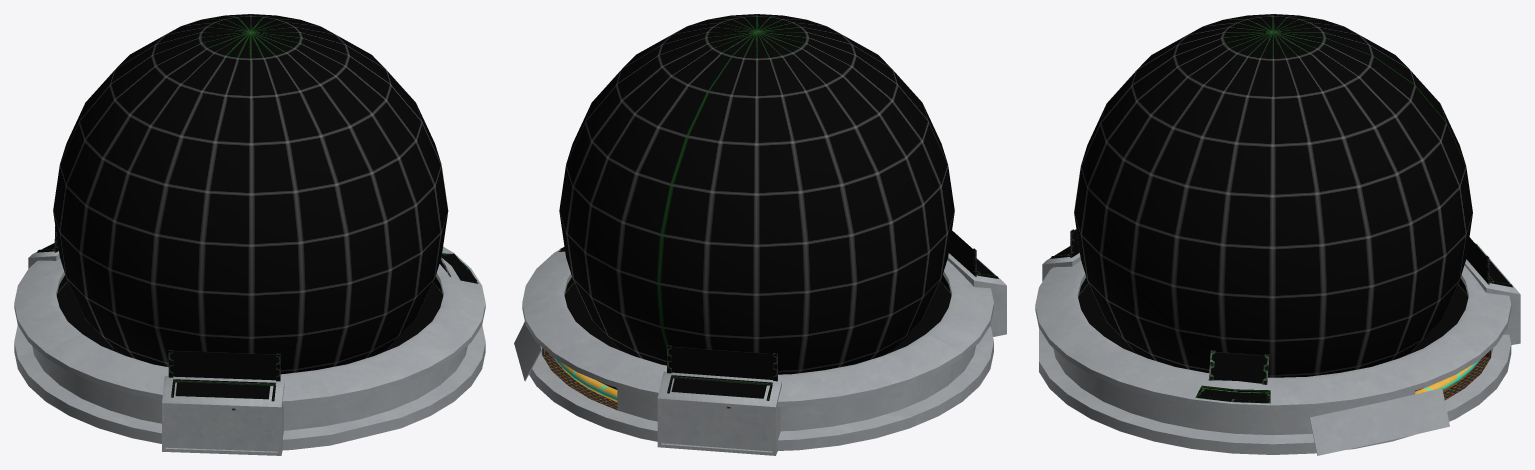
3 renders of one model, left to right at view 1: azimuth 30°, elevation 25°; view 2: azimuth 150°, elevation 25°; view 3: azimuth 270°, elevation 25°, orthographic.
Parts seen in each view (by area): view 1: MesaHolografica; view 2: MesaHolografica; view 3: MesaHolografica.
Part boxes in pixels (x1=…): MesaHolografica: x1=14, y1=14, x2=485, y2=455; MesaHolografica: x1=514, y1=14, x2=1006, y2=455; MesaHolografica: x1=1035, y1=14, x2=1520, y2=455.
Bounding box in the file's own units: 8.08 × 6.71 × 8.16.
Materials: 1 (1 with a texture image).
